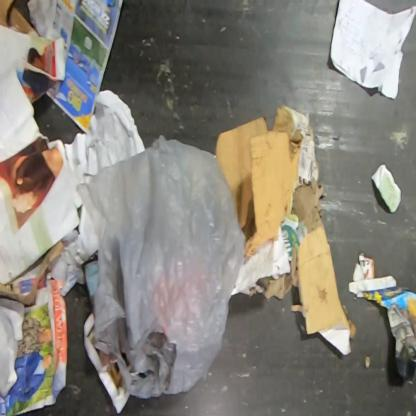cardboard: (212, 103, 358, 357), (348, 252, 415, 381), (0, 239, 66, 306), (0, 0, 41, 38)
soft_plastic: (73, 133, 244, 401)
